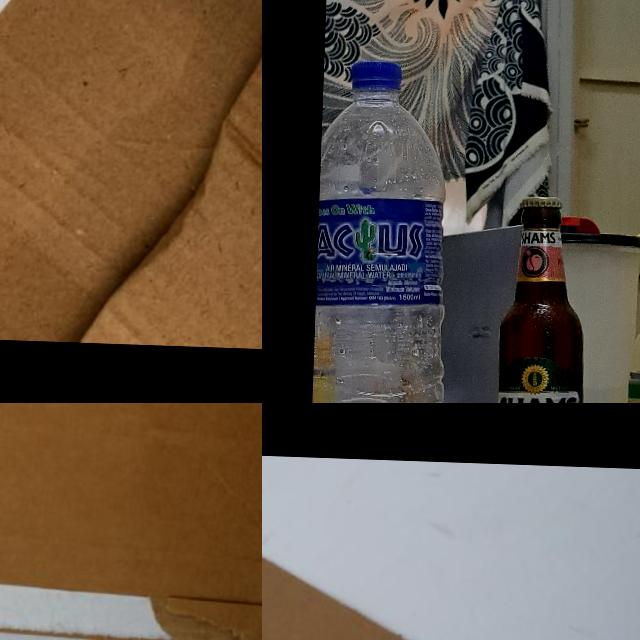garrafa de vidro: (492, 194, 593, 403)
garrafa plástica: (308, 89, 462, 403)
papelão: (0, 0, 262, 361), (0, 403, 262, 640), (262, 520, 506, 640)
tampa plástica: (349, 58, 398, 89)
